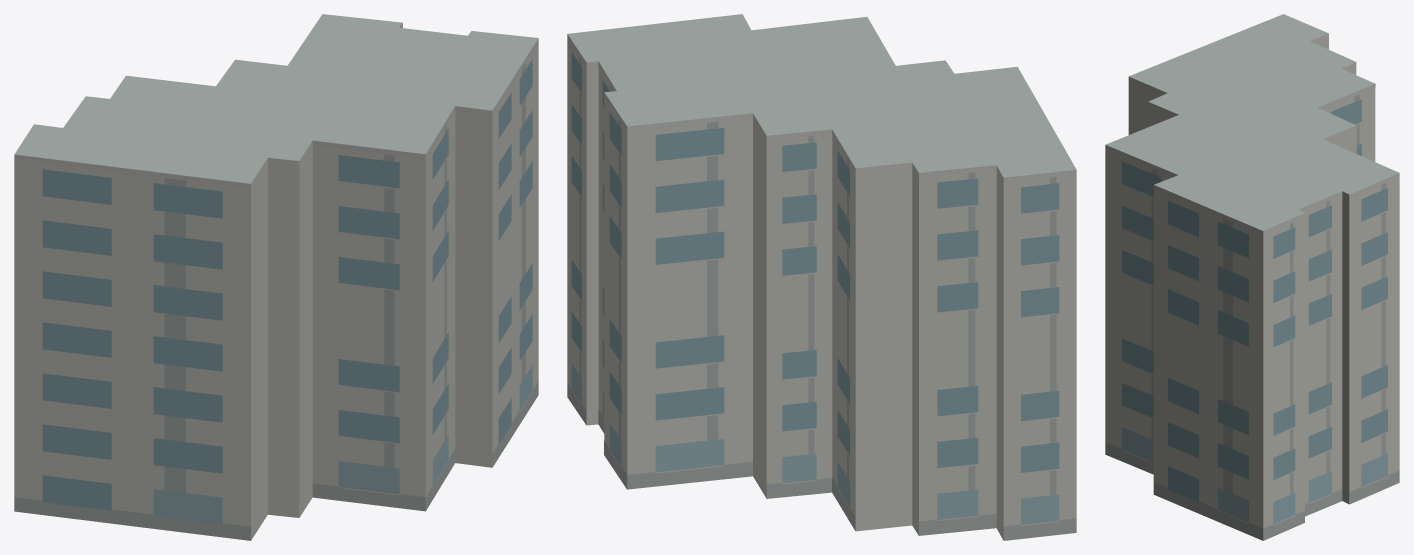
Rendered from survey-upis-32989753.glb.
3 renders of one model, left to right at view 1: azimuth 30°, elevation 25°; view 2: azimuth 150°, elevation 25°; view 3: azimuth 270°, elevation 25°, orthographic. The views are drawn at different scales.
Parts seen in each view (by area): view 1: survey-upis-32989753.tmp; view 2: survey-upis-32989753.tmp; view 3: survey-upis-32989753.tmp.
Boxes of the visible parts, left/top/right/bottom form: survey-upis-32989753.tmp: left=14, top=14, right=538, bottom=540; survey-upis-32989753.tmp: left=567, top=14, right=1076, bottom=540; survey-upis-32989753.tmp: left=1105, top=14, right=1399, bottom=540.
Size of the model in its own units: 27.43 by 18.25 by 15.72.
